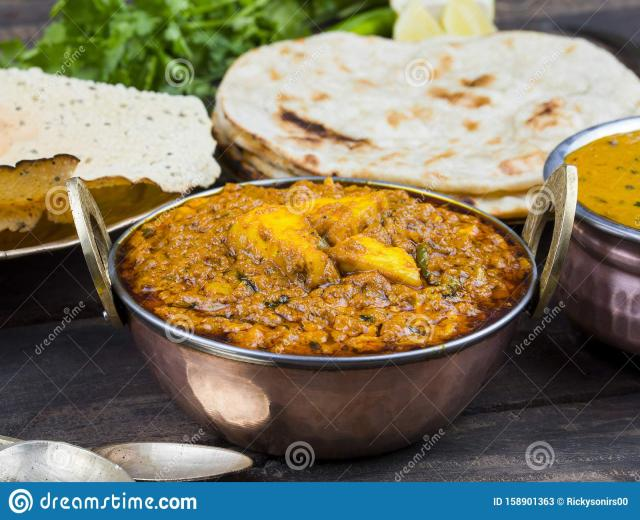chapati: (213, 31, 640, 216)
kadai paneer: (54, 32, 640, 483)
